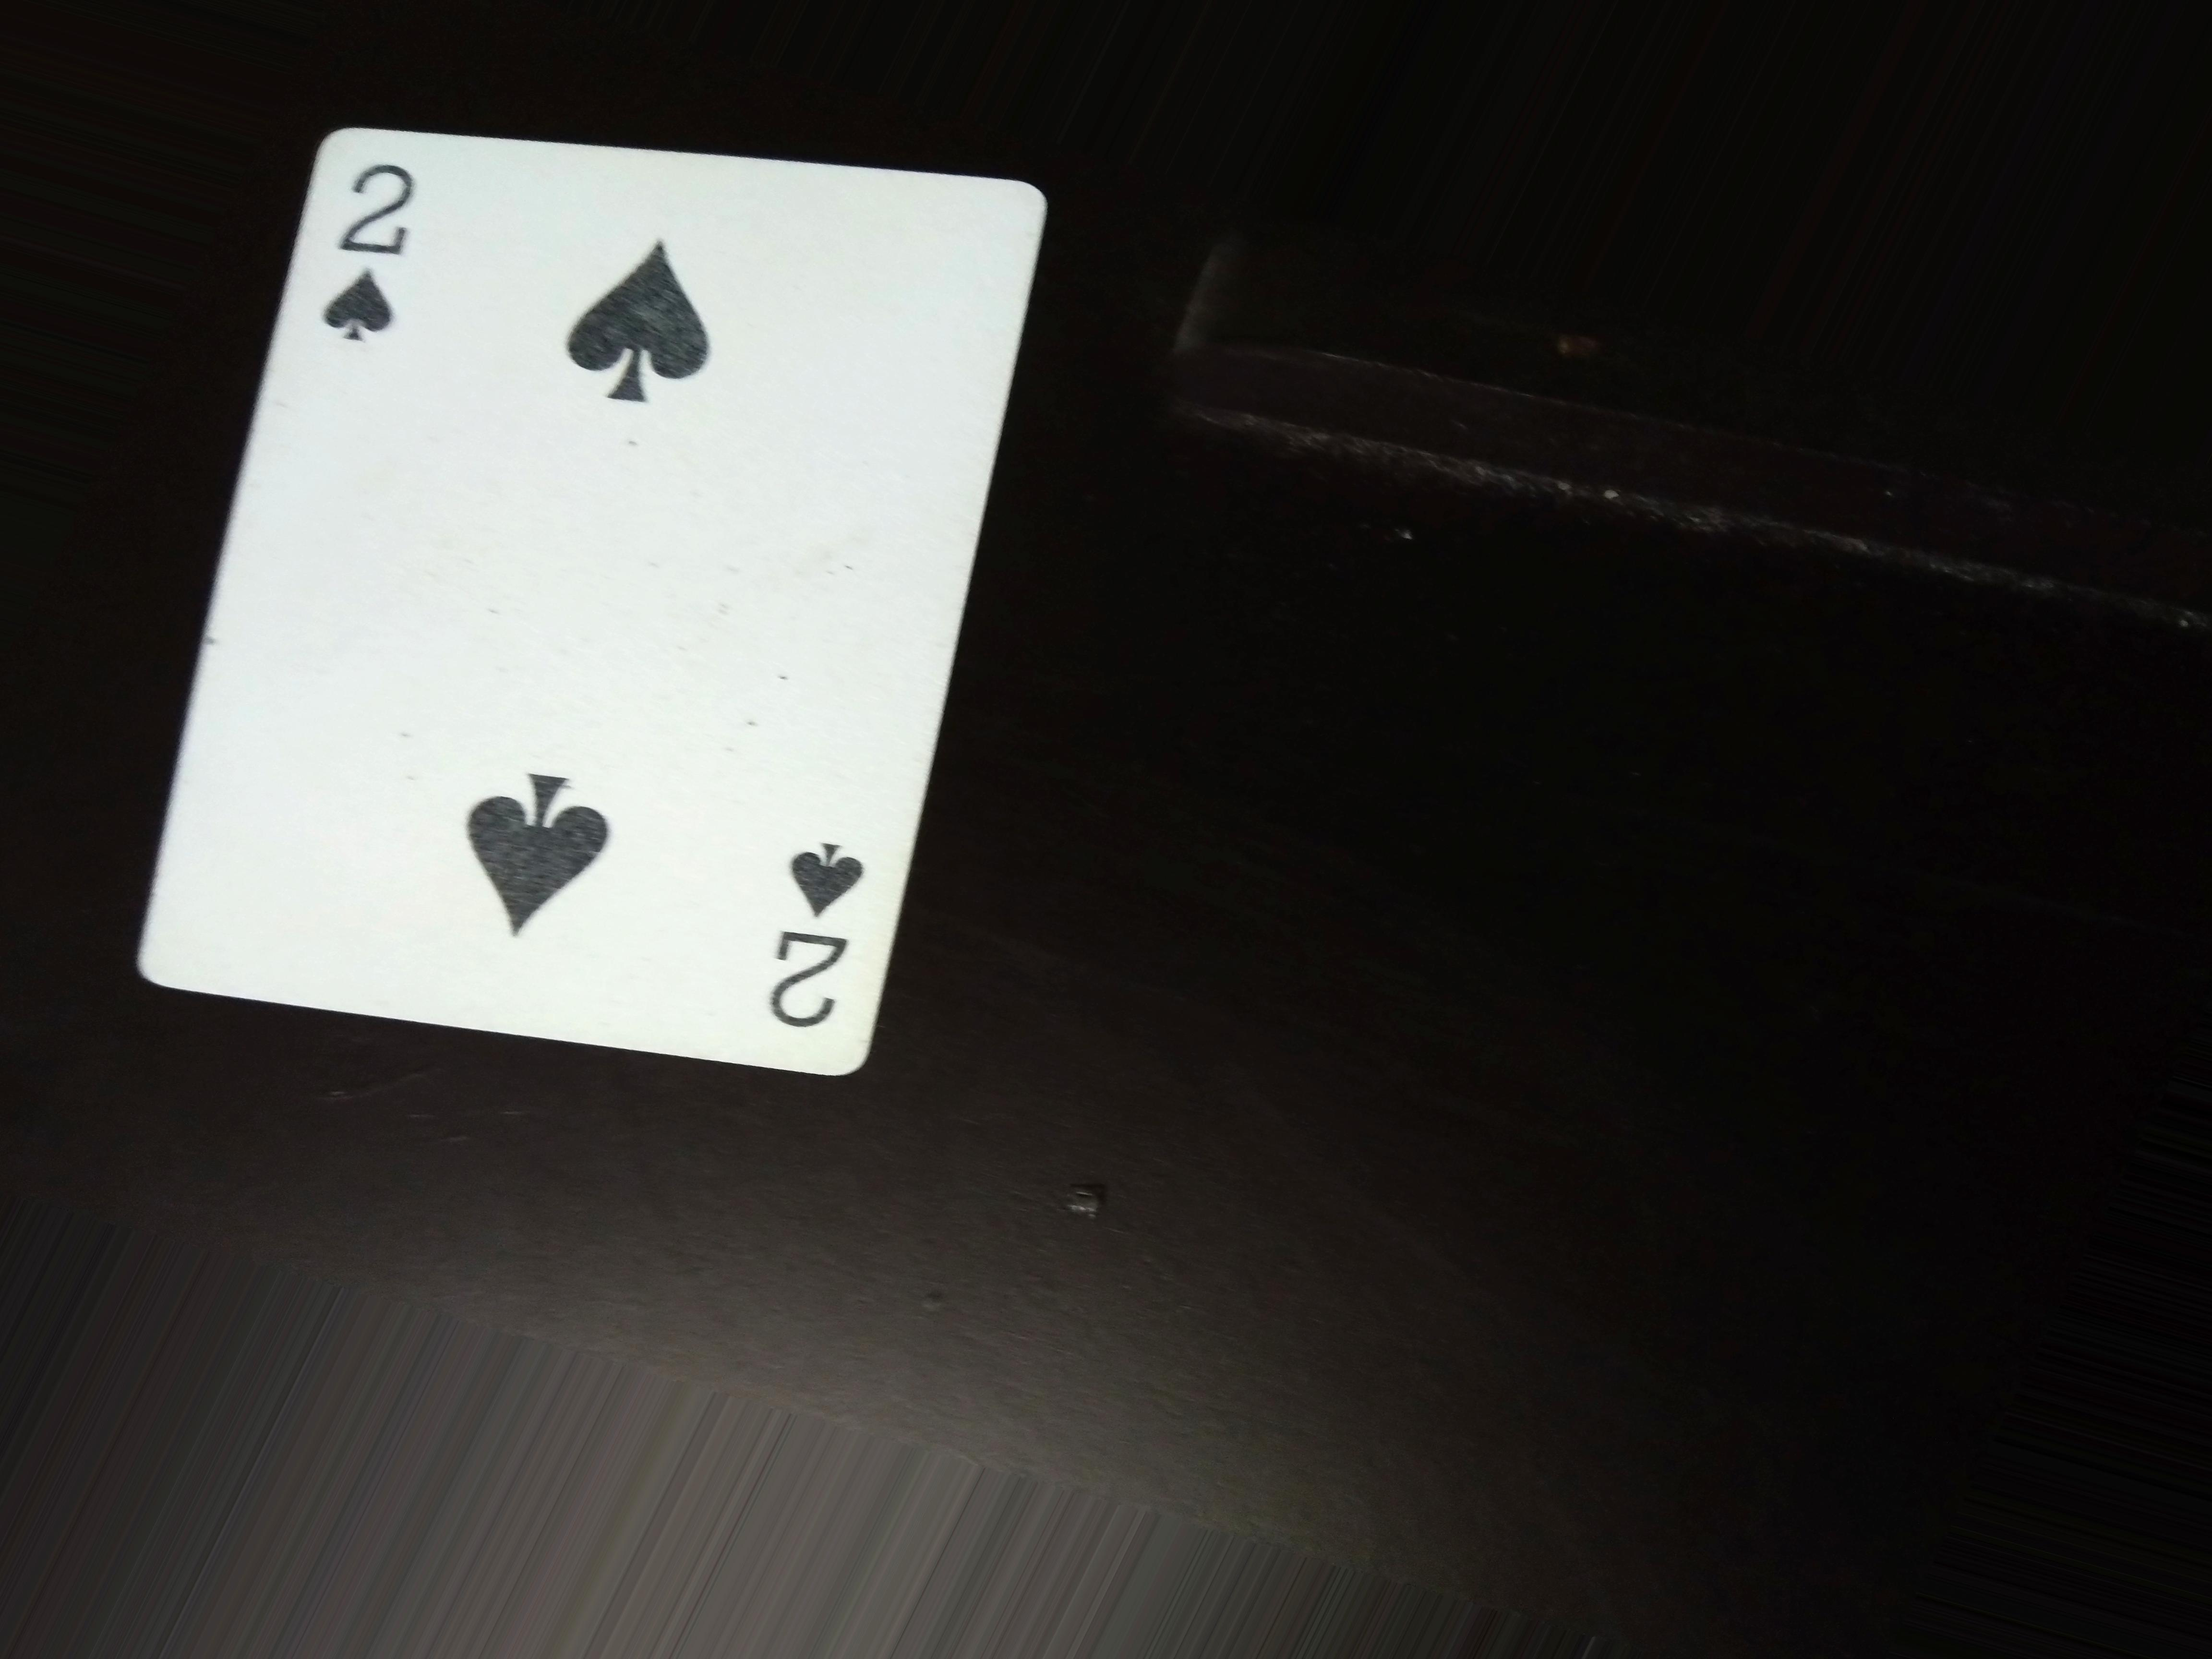2S: (312, 153, 428, 387)
